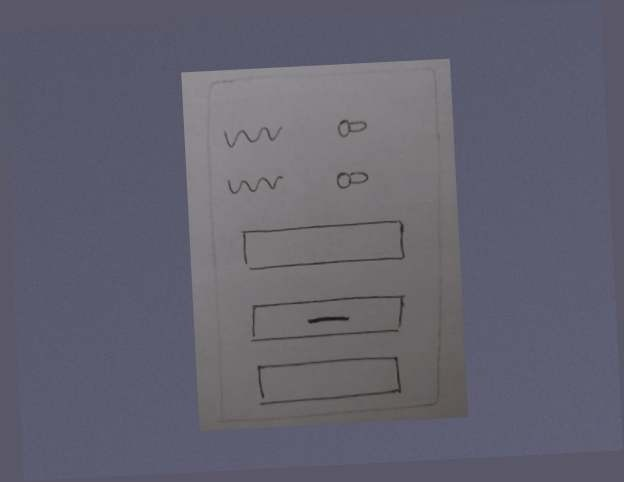button: (243, 290, 412, 348)
switch: (330, 166, 374, 193), (331, 113, 371, 140)
text: (218, 121, 289, 155), (225, 170, 289, 205)
text_input: (237, 217, 410, 275), (248, 352, 409, 410)
